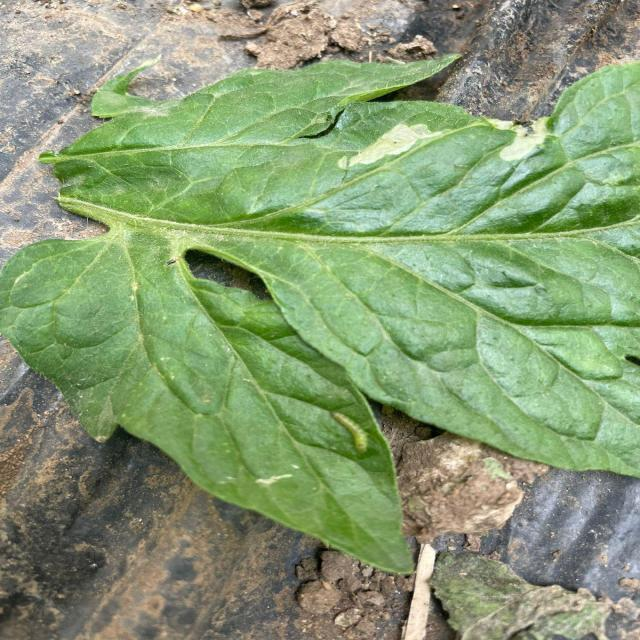Tuta absoluta: (340, 111, 446, 172), (494, 119, 552, 164)
